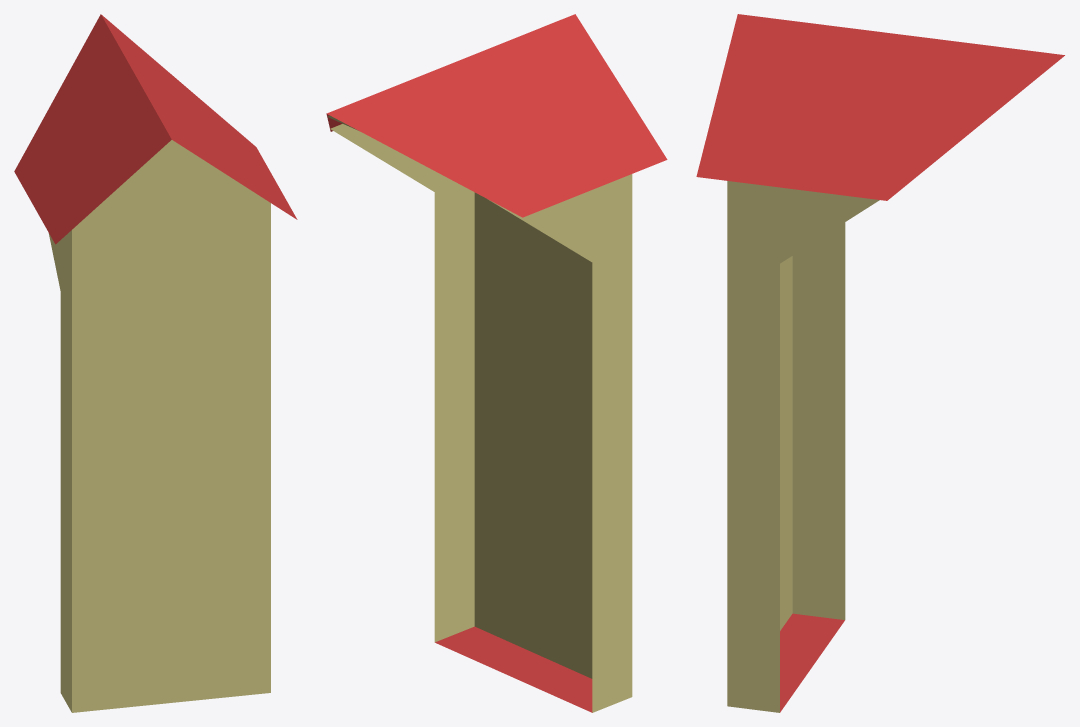
3 renders of one model, left to right at view 1: azimuth 30°, elevation 25°; view 2: azimuth 150°, elevation 25°; view 3: azimuth 270°, elevation 25°, orthographic. The views are drawn at different scales.
Bounding box in the file's own units: 6.54 × 7.45 × 14.27.
